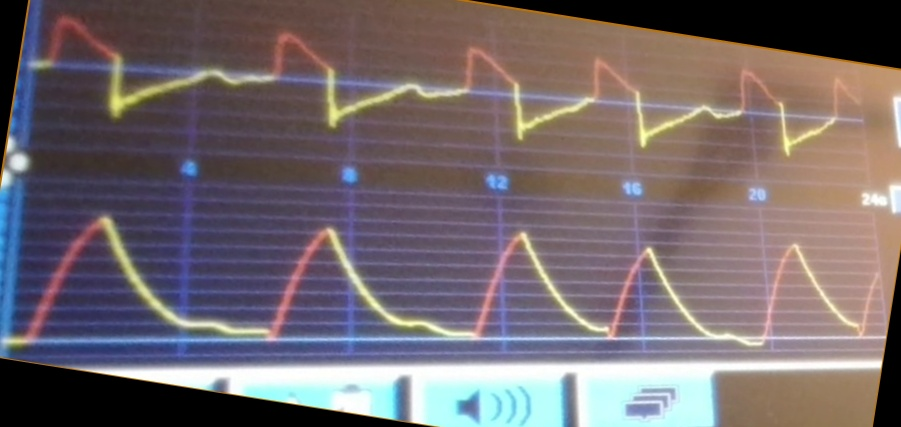Ineffective_effort Flow: (40, 13, 857, 158)
Ineffective_effort Volume: (15, 210, 878, 350)
